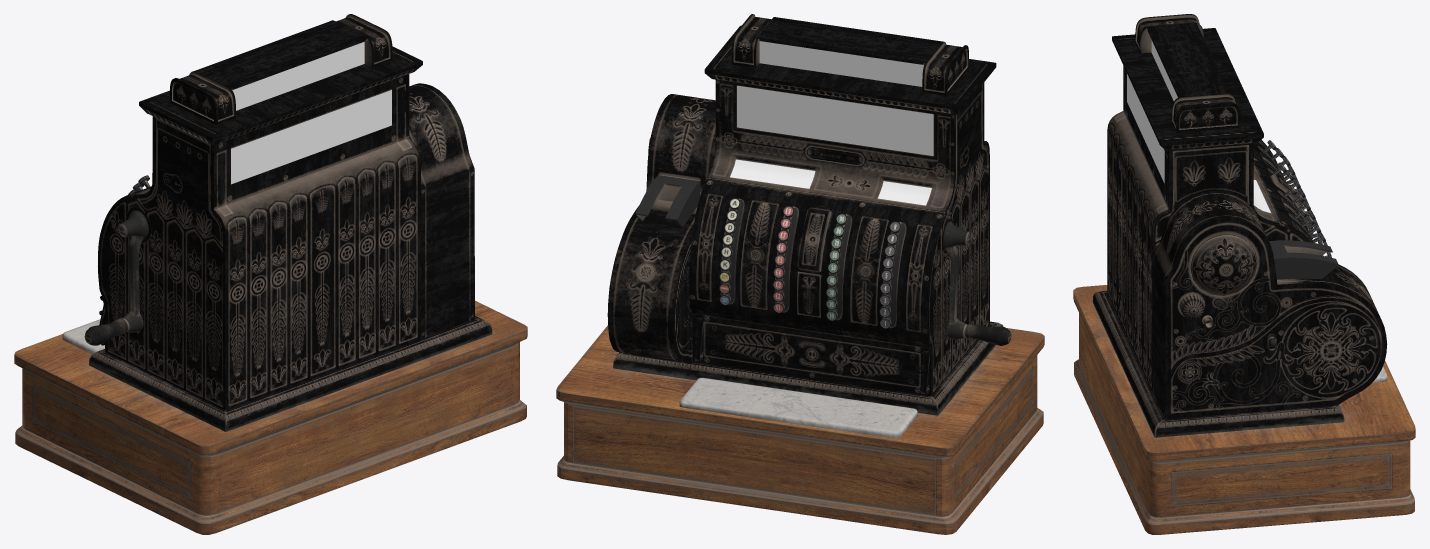
The model's file is CashRegister_adapted.glb.
The picture shows the model from 3 angles, left to right: view 1: azimuth 30°, elevation 25°; view 2: azimuth 150°, elevation 25°; view 3: azimuth 270°, elevation 25°; orthographic projection. The views are drawn at different scales.
Bounding box in the file's own units: 0.6206 × 0.5777 × 0.4812.
3 materials, 2 textured.
